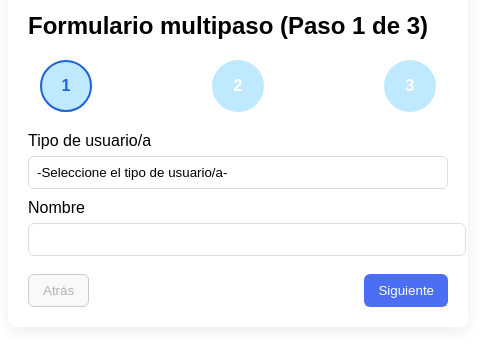
Test case: MultiStepForm › mantiene los datos al navegar entre pasos
The image size is (483, 347).
Note: Llenar datos en paso 1
Type "María García" into the field labelled "Nombre".
click(247, 239); type("María García")  # box 28,223 -> 466,256
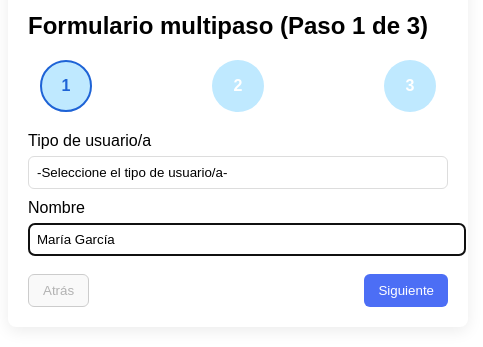
Note: Ir a paso 2
Click the button "Siguiente".
click(406, 290)  # box 364,274 -> 448,307
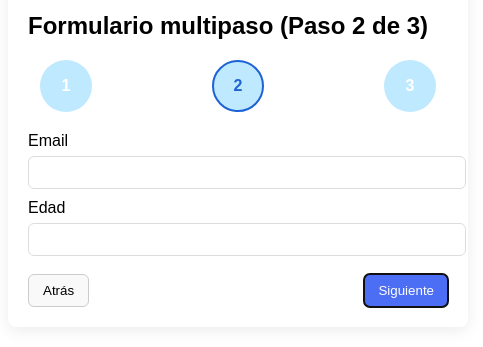
Note: Llenar datos en paso 2
Type "maria@test.com" into the field labelled "Email".
click(247, 172); type("maria@test.com")  # box 28,156 -> 466,189
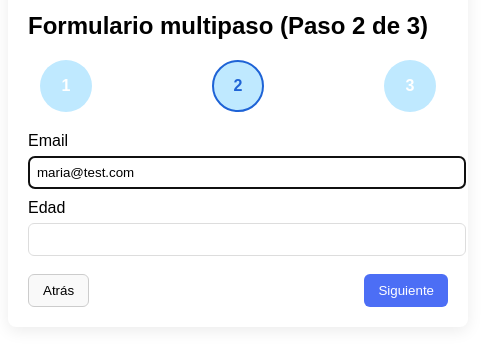
Note: Volver a paso 1 y verificar que los datos se mantienen
Click the button "Atrás".
click(59, 290)  # box 28,274 -> 89,307
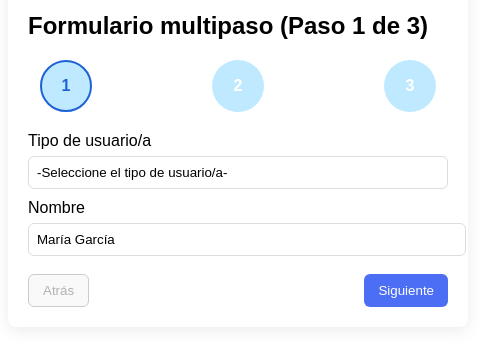
Expected: the field labelled "Nombre" holds "María García", 28,223 -> 466,256
Note: Ir nuevamente a paso 2 y verificar datos
Click the button "Siguiente".
click(406, 290)  # box 364,274 -> 448,307
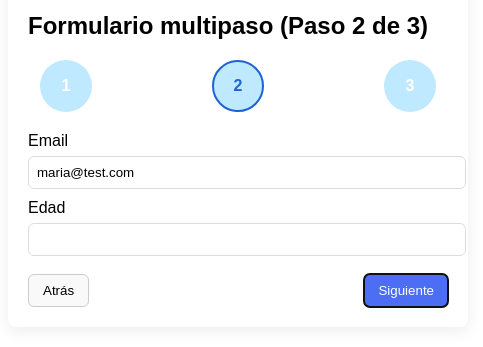
Expected: the field labelled "Email" holds "maria@test.com", 28,156 -> 466,189
